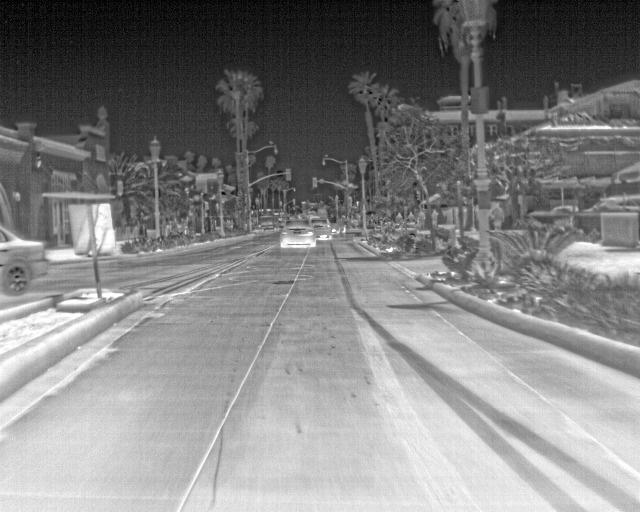bicycle: (1, 225, 49, 300), (277, 224, 312, 252), (305, 214, 332, 243)
empty: (489, 197, 506, 231), (427, 207, 441, 228)
